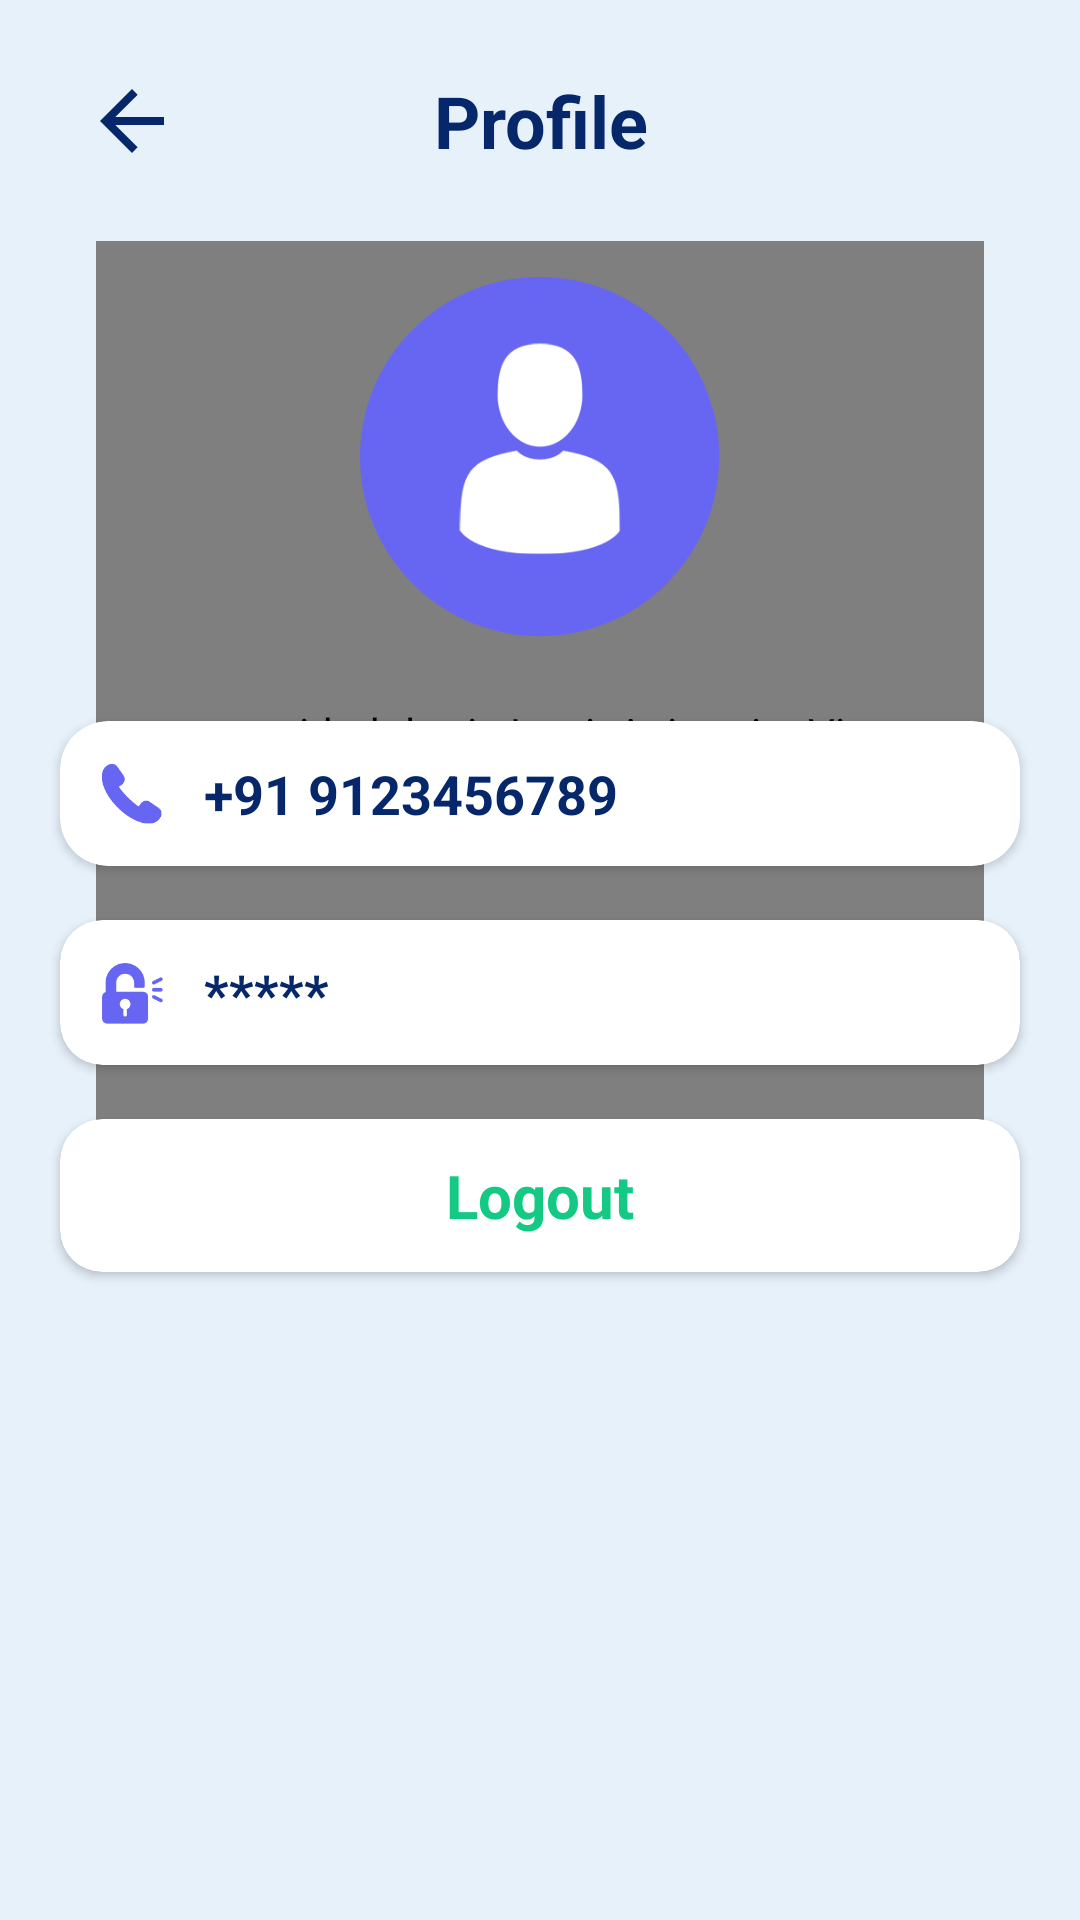

Where to tap for icons on this 1080px×1920px app screen, as point (x, y):
arrow back: point (132, 121)
profile dail: point (132, 794)
profile password: point (132, 993)
